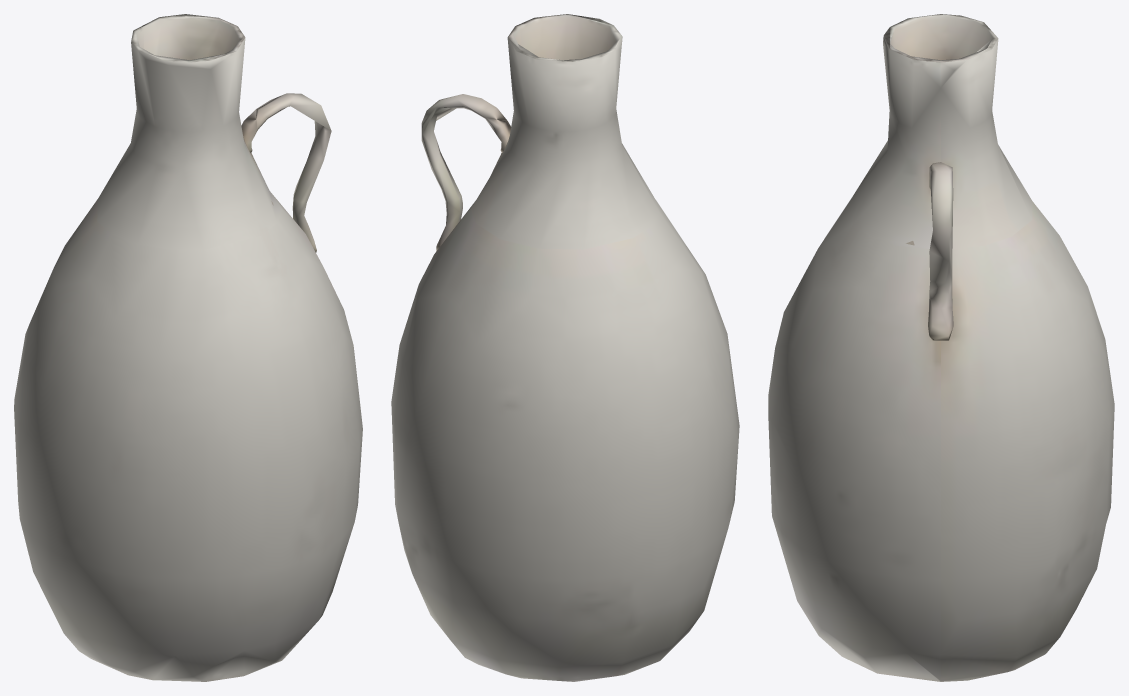
File: vase4.glb
The picture shows the model from 3 angles, left to right: view 1: azimuth 30°, elevation 25°; view 2: azimuth 150°, elevation 25°; view 3: azimuth 270°, elevation 25°; orthographic projection.
Parts seen in each view (by area): view 1: ceramic_vase_04; view 2: ceramic_vase_04; view 3: ceramic_vase_04.
Part boxes in pixels (<box>): ceramic_vase_04: <box>14,14,362,681</box>; ceramic_vase_04: <box>391,14,739,681</box>; ceramic_vase_04: <box>768,14,1114,681</box>.
Bounding box in the file's own units: 0.1799 × 0.3413 × 0.1793.
Materials: 1 (1 with a texture image).
